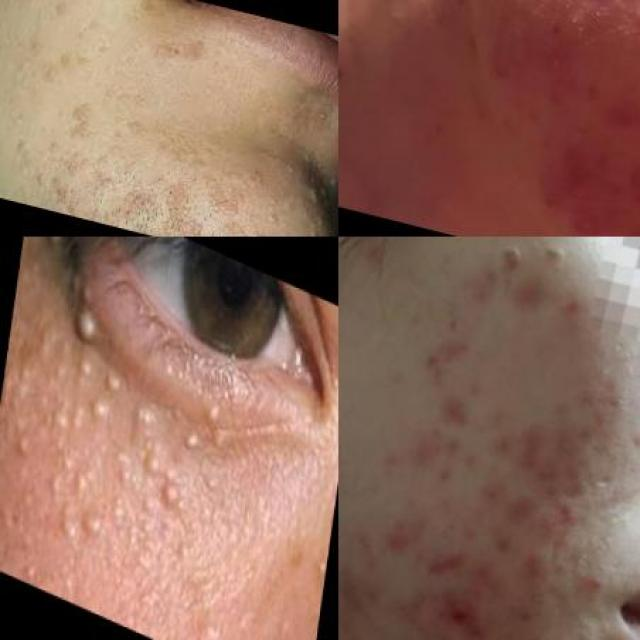7: (122, 384, 212, 530), (40, 438, 110, 553), (62, 336, 125, 455), (301, 537, 329, 608), (37, 237, 71, 258)
8: (496, 409, 613, 512), (428, 577, 490, 640), (374, 503, 430, 563), (531, 38, 575, 90), (513, 545, 557, 588), (614, 156, 640, 216), (561, 201, 603, 237), (581, 566, 613, 596), (491, 527, 519, 556)
blackheads: (408, 328, 468, 390), (406, 551, 459, 588), (428, 398, 473, 432)
